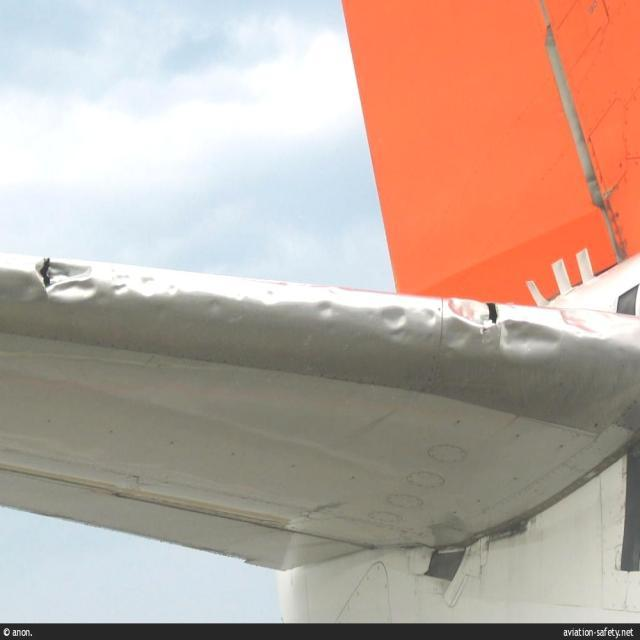dent: (31, 259, 104, 304), (497, 324, 563, 359), (444, 295, 506, 330), (567, 312, 626, 342), (380, 303, 413, 341)
